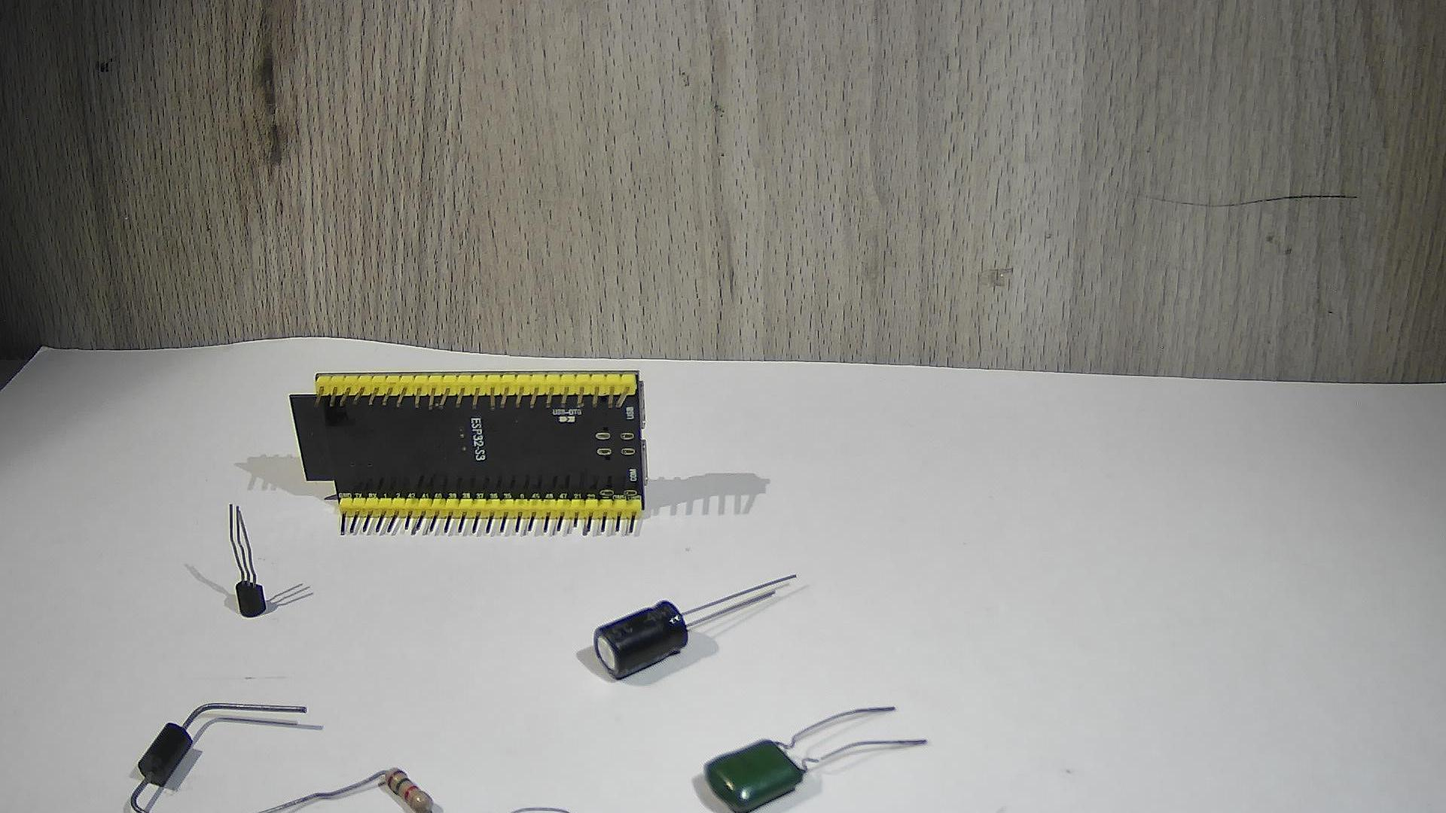Capacitor: (578, 568, 799, 691)
Diodo: (83, 690, 293, 813)
ESP32: (279, 354, 653, 543)
Resistencia: (328, 750, 442, 813)
Transistor: (198, 496, 277, 637)
capacitor ceramico: (680, 712, 930, 813)
